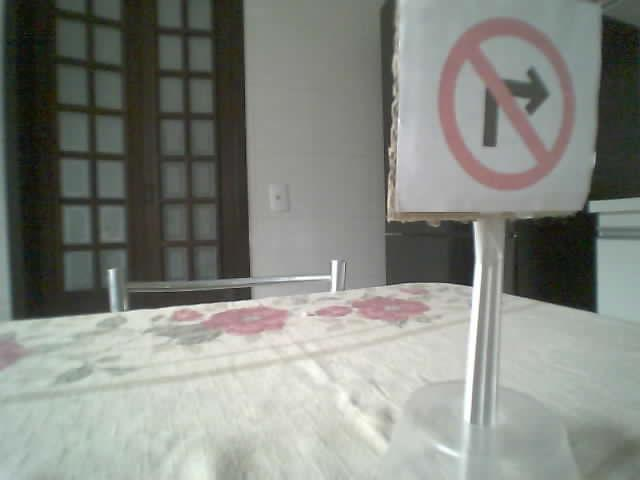R-4b_proibido-direita: (436, 18, 573, 189)
